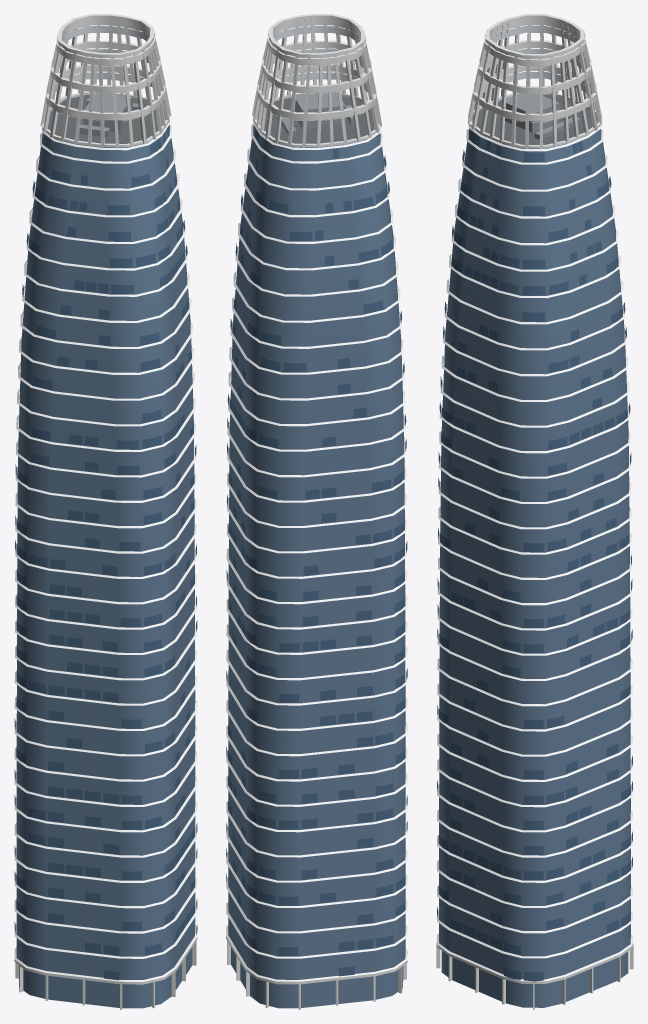
File: salesforce-tower-far.glb
The picture shows the model from 3 angles, left to right: view 1: azimuth 30°, elevation 25°; view 2: azimuth 150°, elevation 25°; view 3: azimuth 270°, elevation 25°; orthographic projection.
Parts seen in each view (by area): view 1: salesforce-tower-0-glass, salesforce-tower-0-fin, salesforce-tower-0-glow, salesforce-tower-0-roof, salesforce-tower-0-light, salesforce-tower-0-metal; view 2: salesforce-tower-0-glass, salesforce-tower-0-fin, salesforce-tower-0-glow, salesforce-tower-0-roof, salesforce-tower-0-light, salesforce-tower-0-metal; view 3: salesforce-tower-0-glass, salesforce-tower-0-fin, salesforce-tower-0-glow, salesforce-tower-0-roof, salesforce-tower-0-light, salesforce-tower-0-metal.
Part boxes in pixels (bbox=[...]): salesforce-tower-0-glass: bbox=[16, 125, 195, 1008]; salesforce-tower-0-fin: bbox=[14, 14, 197, 1009]; salesforce-tower-0-glow: bbox=[14, 126, 197, 980]; salesforce-tower-0-roof: bbox=[47, 95, 165, 143]; salesforce-tower-0-light: bbox=[53, 26, 152, 121]; salesforce-tower-0-metal: bbox=[79, 92, 143, 137]; salesforce-tower-0-glass: bbox=[228, 125, 405, 1008]; salesforce-tower-0-fin: bbox=[226, 14, 407, 1009]; salesforce-tower-0-glow: bbox=[226, 129, 407, 976]; salesforce-tower-0-roof: bbox=[257, 96, 374, 143]; salesforce-tower-0-light: bbox=[270, 26, 368, 120]; salesforce-tower-0-metal: bbox=[277, 91, 358, 135]; salesforce-tower-0-glass: bbox=[439, 128, 630, 1007]; salesforce-tower-0-fin: bbox=[436, 14, 633, 1009]; salesforce-tower-0-glow: bbox=[437, 130, 632, 981]; salesforce-tower-0-roof: bbox=[472, 94, 597, 144]; salesforce-tower-0-light: bbox=[477, 25, 592, 122]; salesforce-tower-0-metal: bbox=[500, 93, 580, 139].
Bounding box in the file's own units: 62.37 × 326 × 62.37.
